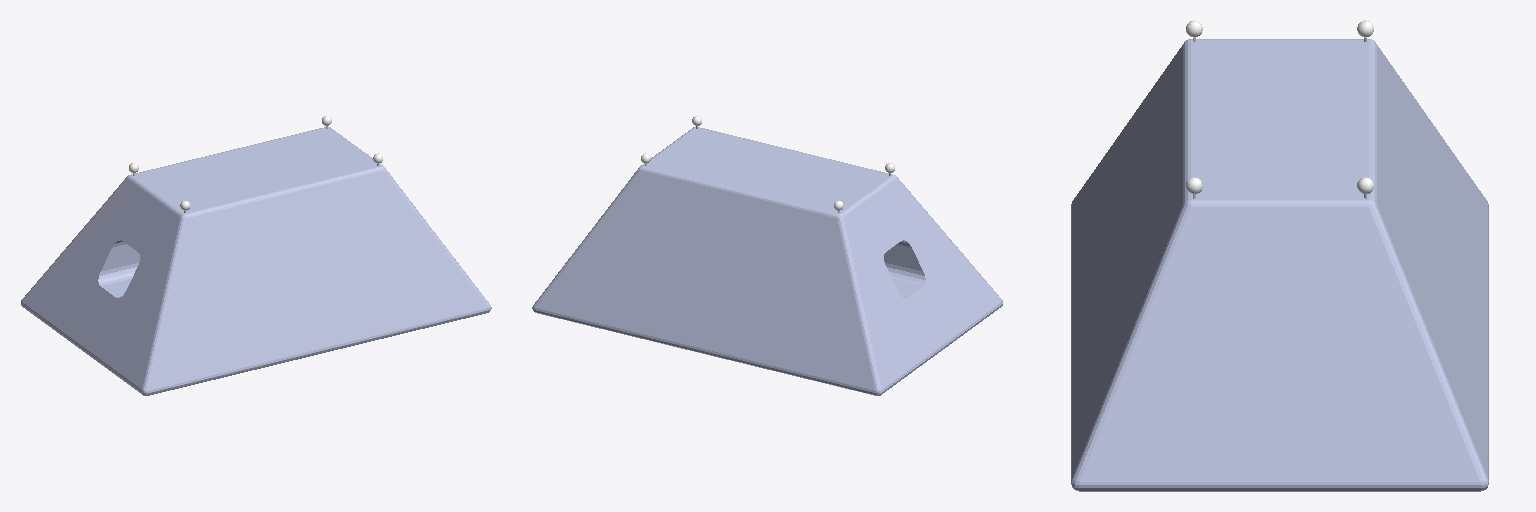
The robot description file, URDF, robot "base":
<robot
  name="base">
  <link
    name="base_link">
    <inertial>
      <origin
        xyz="0.0336838343452882 -1.61851849854105E-10 0.584506925721933"
        rpy="0 0 0" />
      <mass
        value="65983.2189639755" />
      <inertia
        ixx="33469.0667415686"
        ixy="0.000109399065291687"
        ixz="-388.725781780484"
        iyy="72264.7980558923"
        iyz="-0.000102203871250873"
        izz="83289.7207381633" />
    </inertial>
    <visual>
      <origin
        xyz="0 0 0"
        rpy="0 0 0" />
      <geometry>
        <mesh
          filename="package://base/meshes/base_link.STL" />
      </geometry>
      <material
        name="">
        <color
          rgba="0.792156862745098 0.819607843137255 0.933333333333333 1" />
      </material>
    </visual>
    <collision>
      <origin
        xyz="0 0 0"
        rpy="0 0 0" />
      <geometry>
        <mesh
          filename="package://base/meshes/base_link.STL" />
      </geometry>
    </collision>
  </link>
  <link
    name="Front1_Link">
    <inertial>
      <origin
        xyz="0 0.05 0"
        rpy="0 0 0" />
      <mass
        value="0.5236" />
      <inertia
        ixx="0.0005236"
        ixy="0"
        ixz="0"
        iyy="0.0005236"
        iyz="0"
        izz="0.0005236" />
    </inertial>
    <visual>
      <origin
        xyz="0 0 0"
        rpy="0 0 0" />
      <geometry>
        <mesh
          filename="package://base/meshes/Front1_Link.STL" />
      </geometry>
      <material
        name="">
        <color
          rgba="1 1 1 1" />
      </material>
    </visual>
    <collision>
      <origin
        xyz="0 0 0"
        rpy="0 0 0" />
      <geometry>
        <mesh
          filename="package://base/meshes/Front1_Link.STL" />
      </geometry>
    </collision>
  </link>
  <joint
    name="Front1_joint"
    type="fixed">
    <origin
      xyz="-1.084 0.50054 1.528"
      rpy="1.5708 -2.2681E-18 -0.03705" />
    <parent
      link="base_link" />
    <child
      link="Front1_Link" />
    <axis
      xyz="0 0 0" />
  </joint>
  <link
    name="Front2_Link">
    <inertial>
      <origin
        xyz="0 0.05 1.1102E-16"
        rpy="0 0 0" />
      <mass
        value="0.5236" />
      <inertia
        ixx="0.0005236"
        ixy="0"
        ixz="0"
        iyy="0.0005236"
        iyz="0"
        izz="0.0005236" />
    </inertial>
    <visual>
      <origin
        xyz="0 0 0"
        rpy="0 0 0" />
      <geometry>
        <mesh
          filename="package://base/meshes/Front2_Link.STL" />
      </geometry>
      <material
        name="">
        <color
          rgba="1 1 1 1" />
      </material>
    </visual>
    <collision>
      <origin
        xyz="0 0 0"
        rpy="0 0 0" />
      <geometry>
        <mesh
          filename="package://base/meshes/Front2_Link.STL" />
      </geometry>
    </collision>
  </link>
  <joint
    name="Front2_joint"
    type="fixed">
    <origin
      xyz="-1.084 -0.50054 1.528"
      rpy="1.5708 0 0" />
    <parent
      link="base_link" />
    <child
      link="Front2_Link" />
    <axis
      xyz="0 0 0" />
  </joint>
  <link
    name="Back1_Link">
    <inertial>
      <origin
        xyz="0 0.05 -1.1102E-16"
        rpy="0 0 0" />
      <mass
        value="0.5236" />
      <inertia
        ixx="0.0005236"
        ixy="0"
        ixz="1.3553E-20"
        iyy="0.0005236"
        iyz="0"
        izz="0.0005236" />
    </inertial>
    <visual>
      <origin
        xyz="0 0 0"
        rpy="0 0 0" />
      <geometry>
        <mesh
          filename="package://base/meshes/Back1_Link.STL" />
      </geometry>
      <material
        name="">
        <color
          rgba="1 1 1 1" />
      </material>
    </visual>
    <collision>
      <origin
        xyz="0 0 0"
        rpy="0 0 0" />
      <geometry>
        <mesh
          filename="package://base/meshes/Back1_Link.STL" />
      </geometry>
    </collision>
  </link>
  <joint
    name="Back1_joint"
    type="fixed">
    <origin
      xyz="1.084 0.50054 1.528"
      rpy="1.5708 7.4498E-18 0.12197" />
    <parent
      link="base_link" />
    <child
      link="Back1_Link" />
    <axis
      xyz="0 0 0" />
  </joint>
  <link
    name="Back2_Link">
    <inertial>
      <origin
        xyz="0 0.05 1.1102E-16"
        rpy="0 0 0" />
      <mass
        value="0.5236" />
      <inertia
        ixx="0.0005236"
        ixy="0"
        ixz="0"
        iyy="0.0005236"
        iyz="0"
        izz="0.0005236" />
    </inertial>
    <visual>
      <origin
        xyz="0 0 0"
        rpy="0 0 0" />
      <geometry>
        <mesh
          filename="package://base/meshes/Back2_Link.STL" />
      </geometry>
      <material
        name="">
        <color
          rgba="1 1 1 1" />
      </material>
    </visual>
    <collision>
      <origin
        xyz="0 0 0"
        rpy="0 0 0" />
      <geometry>
        <mesh
          filename="package://base/meshes/Back2_Link.STL" />
      </geometry>
    </collision>
  </link>
  <joint
    name="Back2_joint"
    type="fixed">
    <origin
      xyz="1.084 -0.50054 1.528"
      rpy="1.5708 -3.9421E-18 -0.064426" />
    <parent
      link="base_link" />
    <child
      link="Back2_Link" />
    <axis
      xyz="0 0 0" />
  </joint>
  <link
    name="Marker_Link">
    <inertial>
      <origin
        xyz="1.462E-15 -0.64552 -0.23515"
        rpy="0 0 0" />
      <mass
        value="37.502" />
      <inertia
        ixx="3.9461"
        ixy="1.1471E-14"
        ixz="-1.1054E-15"
        iyy="5.6092"
        iyz="0.84562"
        izz="7.5218" />
    </inertial>
    <visual>
      <origin
        xyz="0 0 0"
        rpy="0 0 0" />
      <geometry>
        <mesh
          filename="package://base/meshes/Marker_Link.STL" />
      </geometry>
      <material
        name="">
        <color
          rgba="0.79216 0.81961 0.93333 1" />
      </material>
    </visual>
    <collision>
      <origin
        xyz="0 0 0"
        rpy="0 0 0" />
      <geometry>
        <mesh
          filename="package://base/meshes/Marker_Link.STL" />
      </geometry>
    </collision>
  </link>
  <joint
    name="Marker_joint"
    type="fixed">
    <origin
      xyz="-1.157 0 0"
      rpy="-1.5708 -6.123E-17 -1.5708" />
    <parent
      link="base_link" />
    <child
      link="Marker_Link" />
    <axis
      xyz="0 0 0" />
  </joint>
</robot>

--- What the picture shows (computed from the rendered views, not written in the file) ---
Views: 3 orthographic renders of the robot side by side, from view 1: azimuth 30°, elevation 25°; view 2: azimuth 150°, elevation 25°; view 3: azimuth 270°, elevation 25°.
Robot: base — 6 links, 5 joints (5 fixed); root link base_link; default pose: all joints at 0.
Visible links, largest first — view 1: base_link, Marker_Link; view 2: base_link, Marker_Link; view 3: base_link.
Boxes of the visible links, x1,y1,x2,y2 form: base_link: [21, 126, 491, 395]; Marker_Link: [76, 210, 162, 327]; base_link: [532, 126, 1002, 395]; Marker_Link: [861, 210, 947, 327]; base_link: [1071, 38, 1488, 491].
Size in the robot's own frame: 3.93 by 2.44 by 1.63 metres.
Meshes: 6 distinct files referenced, 6 mesh visuals loaded (6 binary STL).